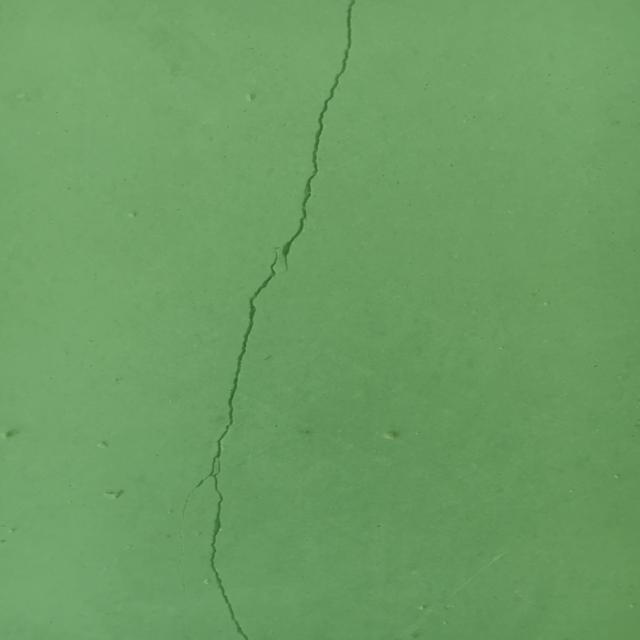crack: (181, 246, 279, 640), (280, 0, 356, 273)
